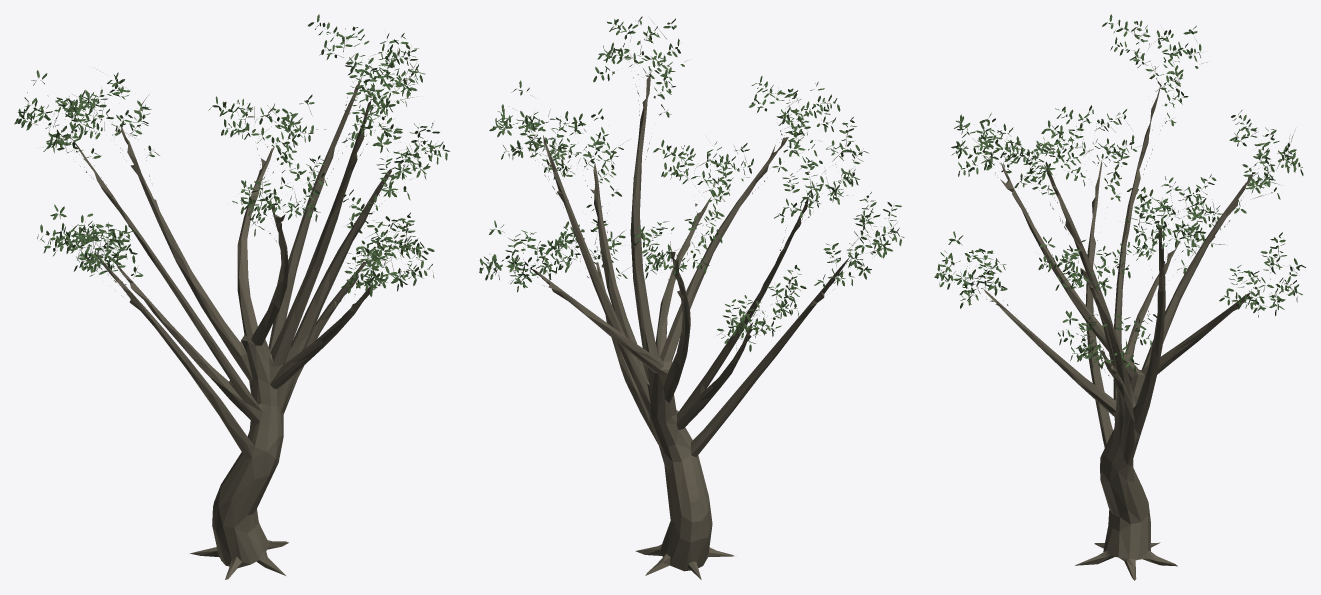
The model's file is CheneVert_1_Niveau1.fbx.
3 renders of one model, left to right at view 1: azimuth 30°, elevation 25°; view 2: azimuth 150°, elevation 25°; view 3: azimuth 270°, elevation 25°, orthographic. The views are drawn at different scales.
Parts seen in each view (by area): view 1: CheneVert_1_Niveau1_Jeu; view 2: CheneVert_1_Niveau1_Jeu; view 3: CheneVert_1_Niveau1_Jeu.
Boxes of the visible parts, box(x1,y1,x2,y2) form: CheneVert_1_Niveau1_Jeu: box(14, 14, 449, 579); CheneVert_1_Niveau1_Jeu: box(479, 16, 904, 579); CheneVert_1_Niveau1_Jeu: box(934, 14, 1305, 580).
Bounding box in the file's own units: 465 × 585 × 414.
